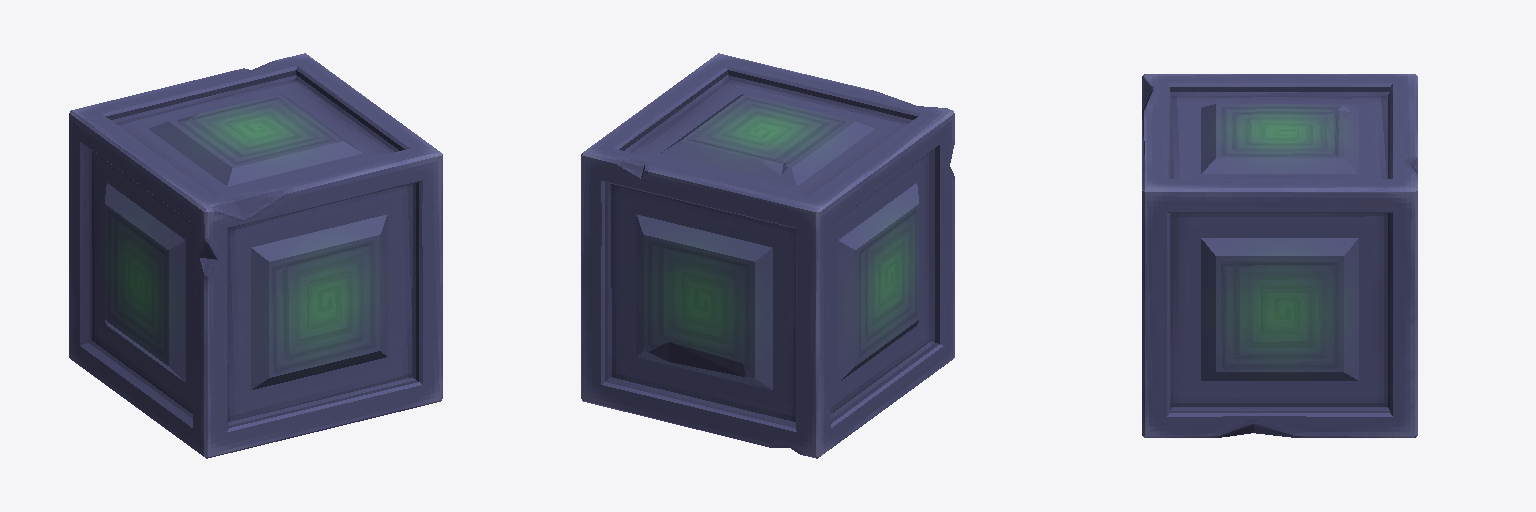
The picture shows the model from 3 angles: view 1: azimuth 30°, elevation 25°; view 2: azimuth 150°, elevation 25°; view 3: azimuth 270°, elevation 25°; orthographic projection.
Parts seen in each view (by area): view 1: Puzzlebox_[number redacted]:pCube1; view 2: Puzzlebox_[number redacted]:pCube1; view 3: Puzzlebox_[number redacted]:pCube1.
Boxes of the visible parts, x1,y1,x2,y2 form: Puzzlebox_[number redacted]:pCube1: [69, 53, 442, 458]; Puzzlebox_[number redacted]:pCube1: [581, 53, 954, 458]; Puzzlebox_[number redacted]:pCube1: [1142, 74, 1417, 437].
Bounding box in the file's own units: 3 × 3 × 3.
Materials: 1 (1 with a texture image).